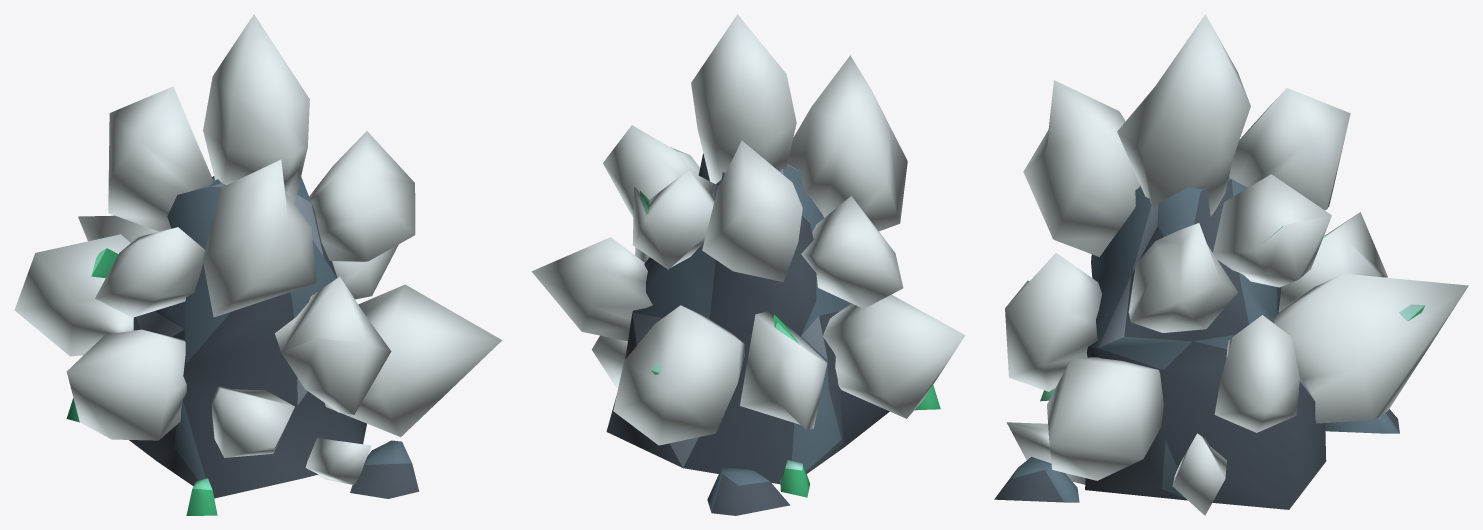
The model's file is Tier2Diamond.glb.
3 views of the same model, side by side, from view 1: azimuth 30°, elevation 25°; view 2: azimuth 150°, elevation 25°; view 3: azimuth 270°, elevation 25° (orthographic). The views are drawn at different scales.
Visible parts, largest first — view 1: Tier2Diamond; view 2: Tier2Diamond; view 3: Tier2Diamond.
Boxes of the visible parts, x1,y1,x2,y2 form: Tier2Diamond: (14,14,502,515); Tier2Diamond: (531,14,965,515); Tier2Diamond: (994,14,1468,515).
Bounding box in the file's own units: 2.39 × 2.53 × 2.36.
1 material, 1 textured.
